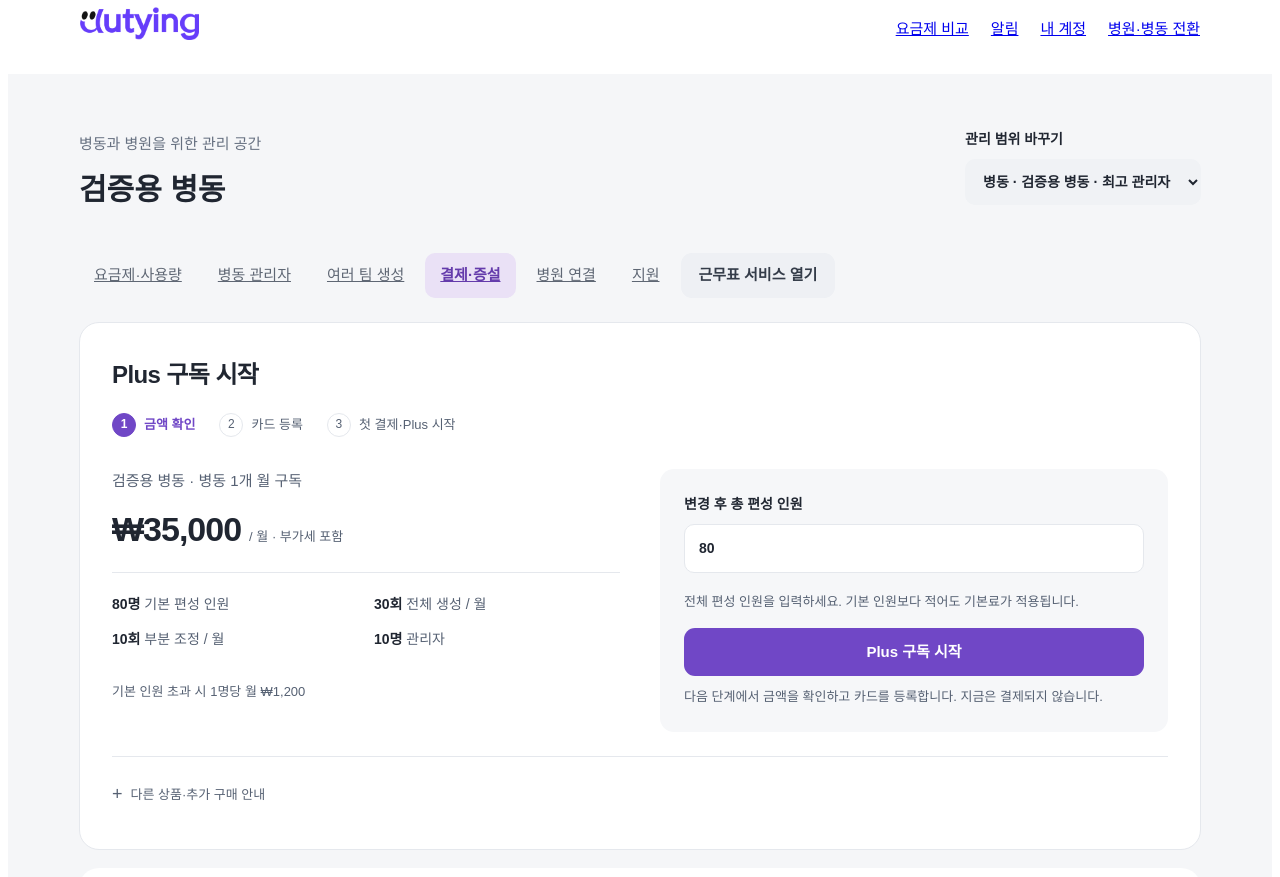
Scenario: published Plus offer when the full catalogue is unavailable › uses confirmed public prices and minimum staff for a new FREE subscription
Check: the number field labelled "변경 후 총 편성 인원" holds "80", box [684,524,1144,573]
Check: the text "₩35,000" is shown, box [112,507,241,552]
Click the button "Plus 구독 시작" at (914, 652), box [684,628,1144,676]
(page scrolled)
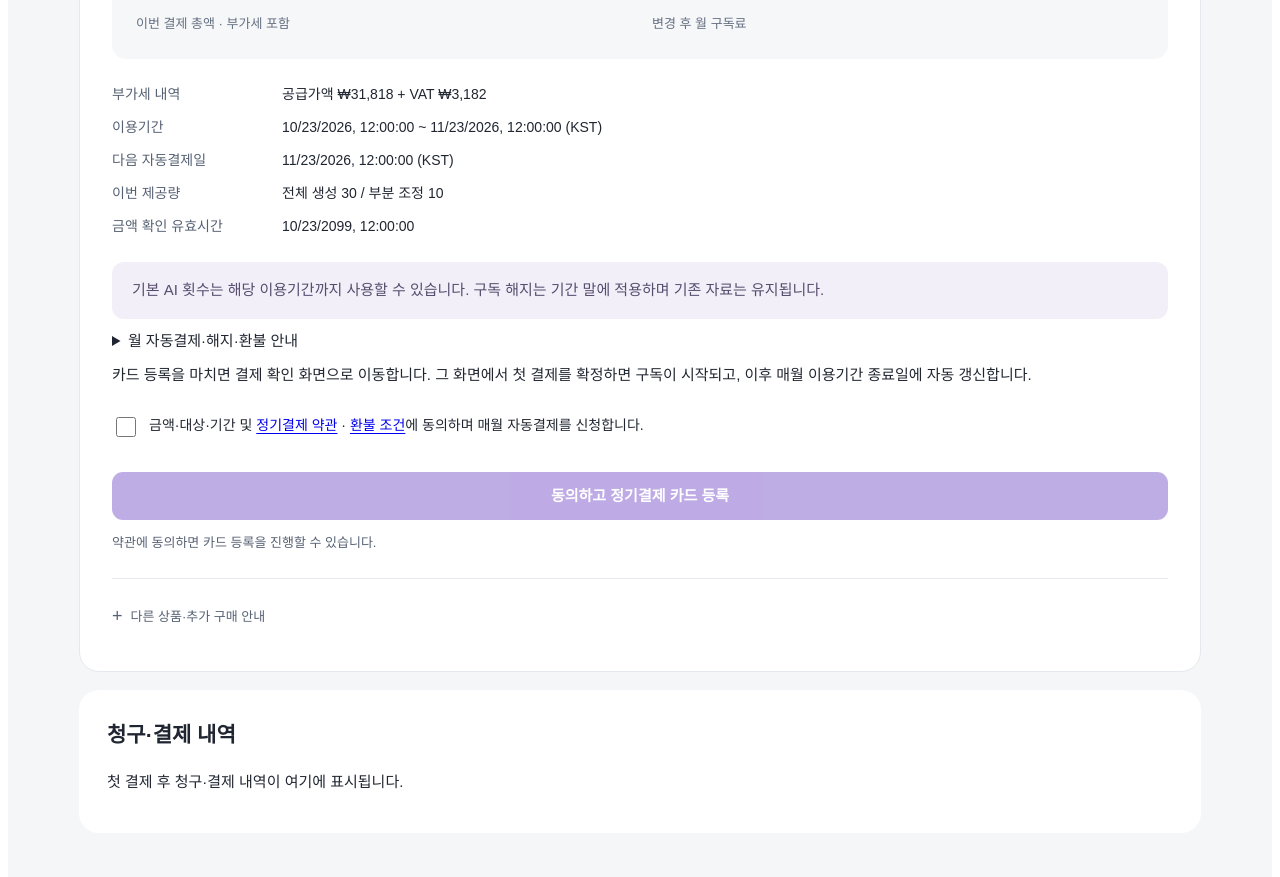
Check: the button "동의하고 정기결제 카드 등록" is disabled, box [112,472,1168,520]
Check: the checkbox labelled "금액·대상·기간 및 정기결제 약관 · 환불 조건 에 동의하며 매월 자동결제를 신청합니다." is not checked, box [116,417,136,437]
